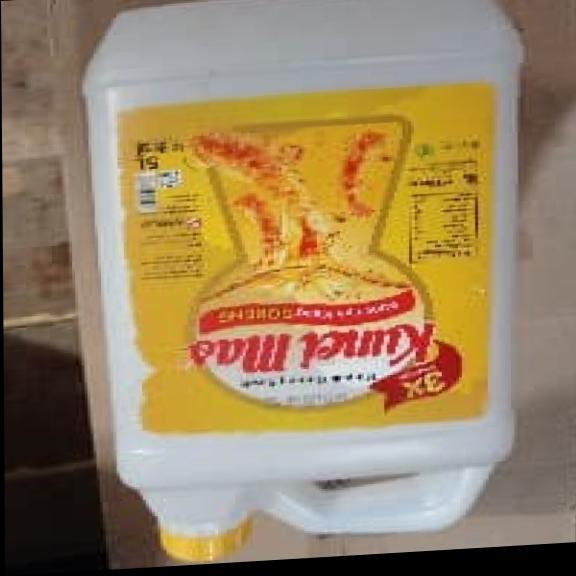Plastik: (78, 0, 482, 567)
